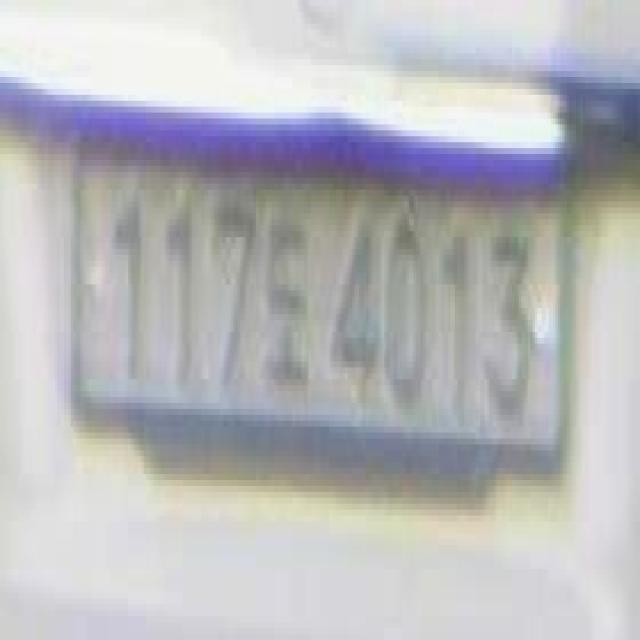illegal_plate: (67, 141, 573, 516)
